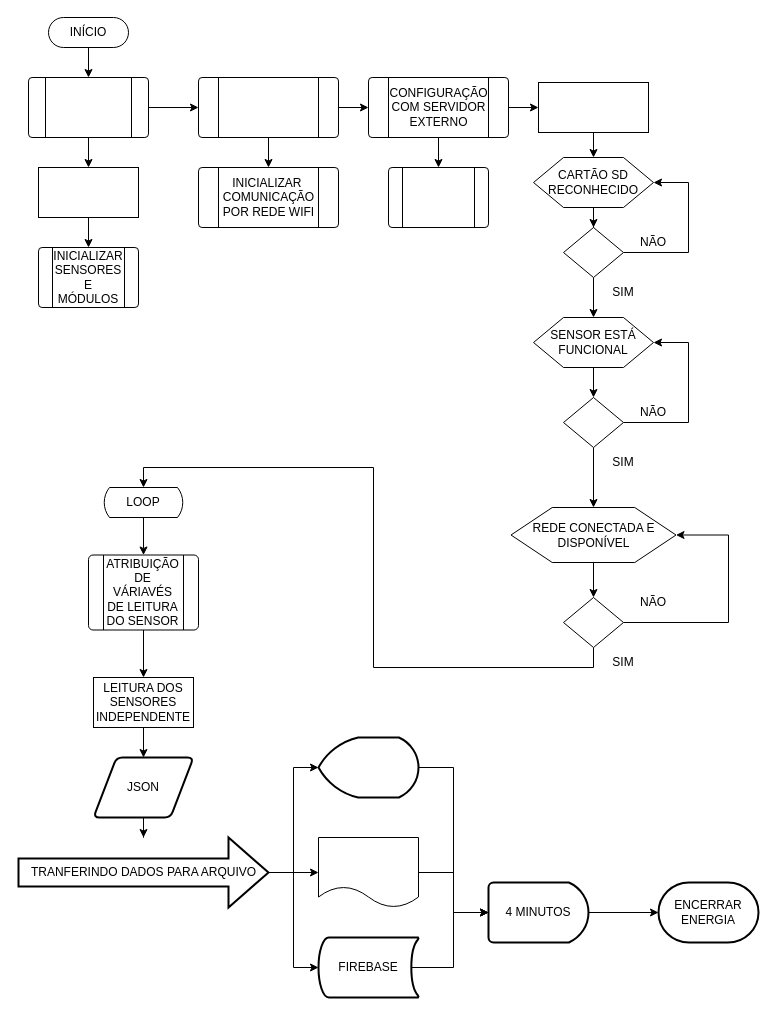
Some shapes in this 776 by 1016 pixel diagram are drawn without their labels. The shapes that lost their labels are listed below. From the top down, each one's centre as x and y in pixels, then its label:
the point at 88,107: CARREGAR BIBLIOTECAS DE SISTEMA
the point at 268,107: CONFIGURAÇÃO DE REDE DE COMUNICAÇÃO
the point at 593,107: CONFIGURAÇÕES INICIAIS
the point at 88,192: IDENTIFICAÇÃO DOS SENSORES E MÓDULOS
the point at 438,197: INICIAR ARQUIVO DE BACKUP
the point at 368,767: MONITOR SERIAL
the point at 368,872: ARQUIVO BACKUP .txt
